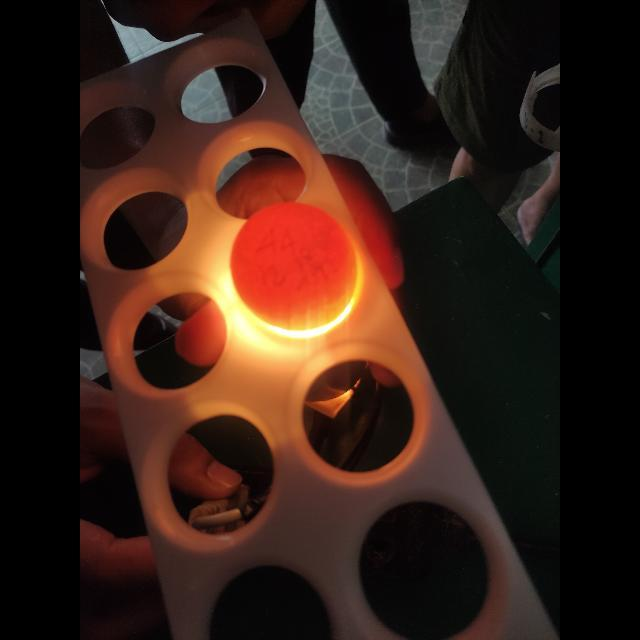Infertile: (229, 196, 365, 334)
